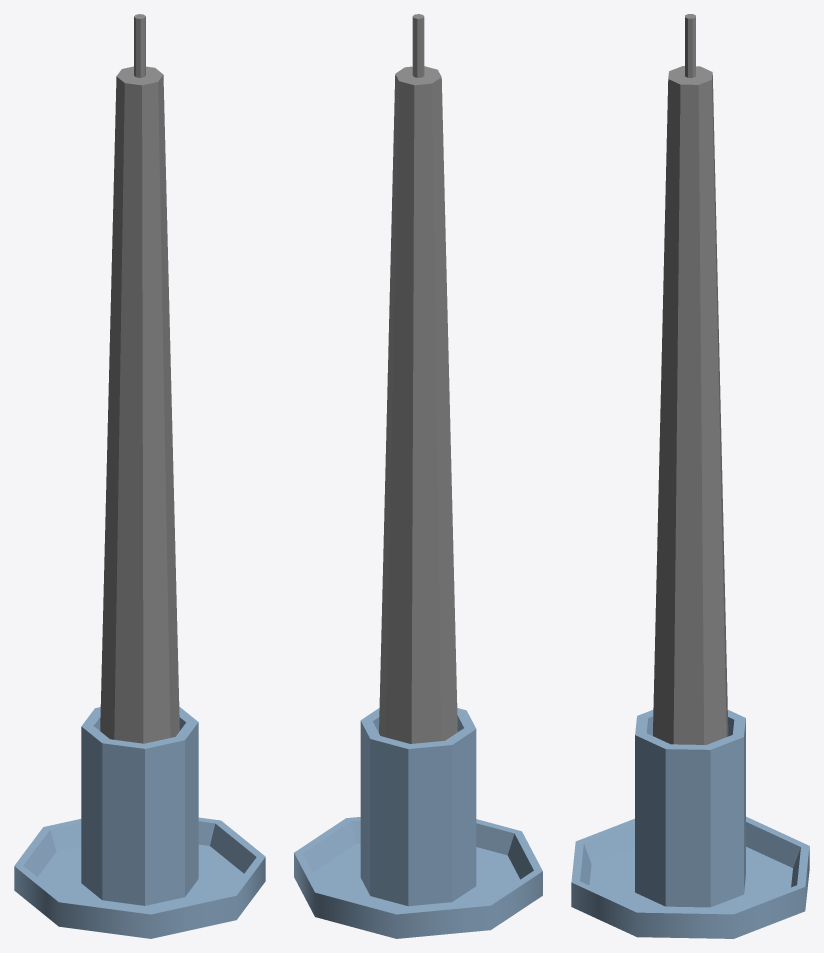
File: Kerze.FBX
3 renders of one model, left to right at view 1: azimuth 30°, elevation 25°; view 2: azimuth 150°, elevation 25°; view 3: azimuth 270°, elevation 25°, orthographic.
Visible parts, largest first — view 1: kerze; view 2: kerze; view 3: kerze.
Part boxes in pixels (left/top/right/bottom): kerze: left=14, top=14, right=265, bottom=938; kerze: left=294, top=14, right=542, bottom=938; kerze: left=571, top=14, right=809, bottom=938.
Size of the model in its own units: 4.56 by 18.44 by 4.56.
